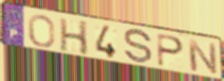4: (95, 24, 119, 60)
H: (58, 17, 90, 57)
N: (187, 38, 220, 76)
O: (27, 14, 56, 49)
P: (156, 33, 186, 69)
S: (123, 28, 154, 66)
